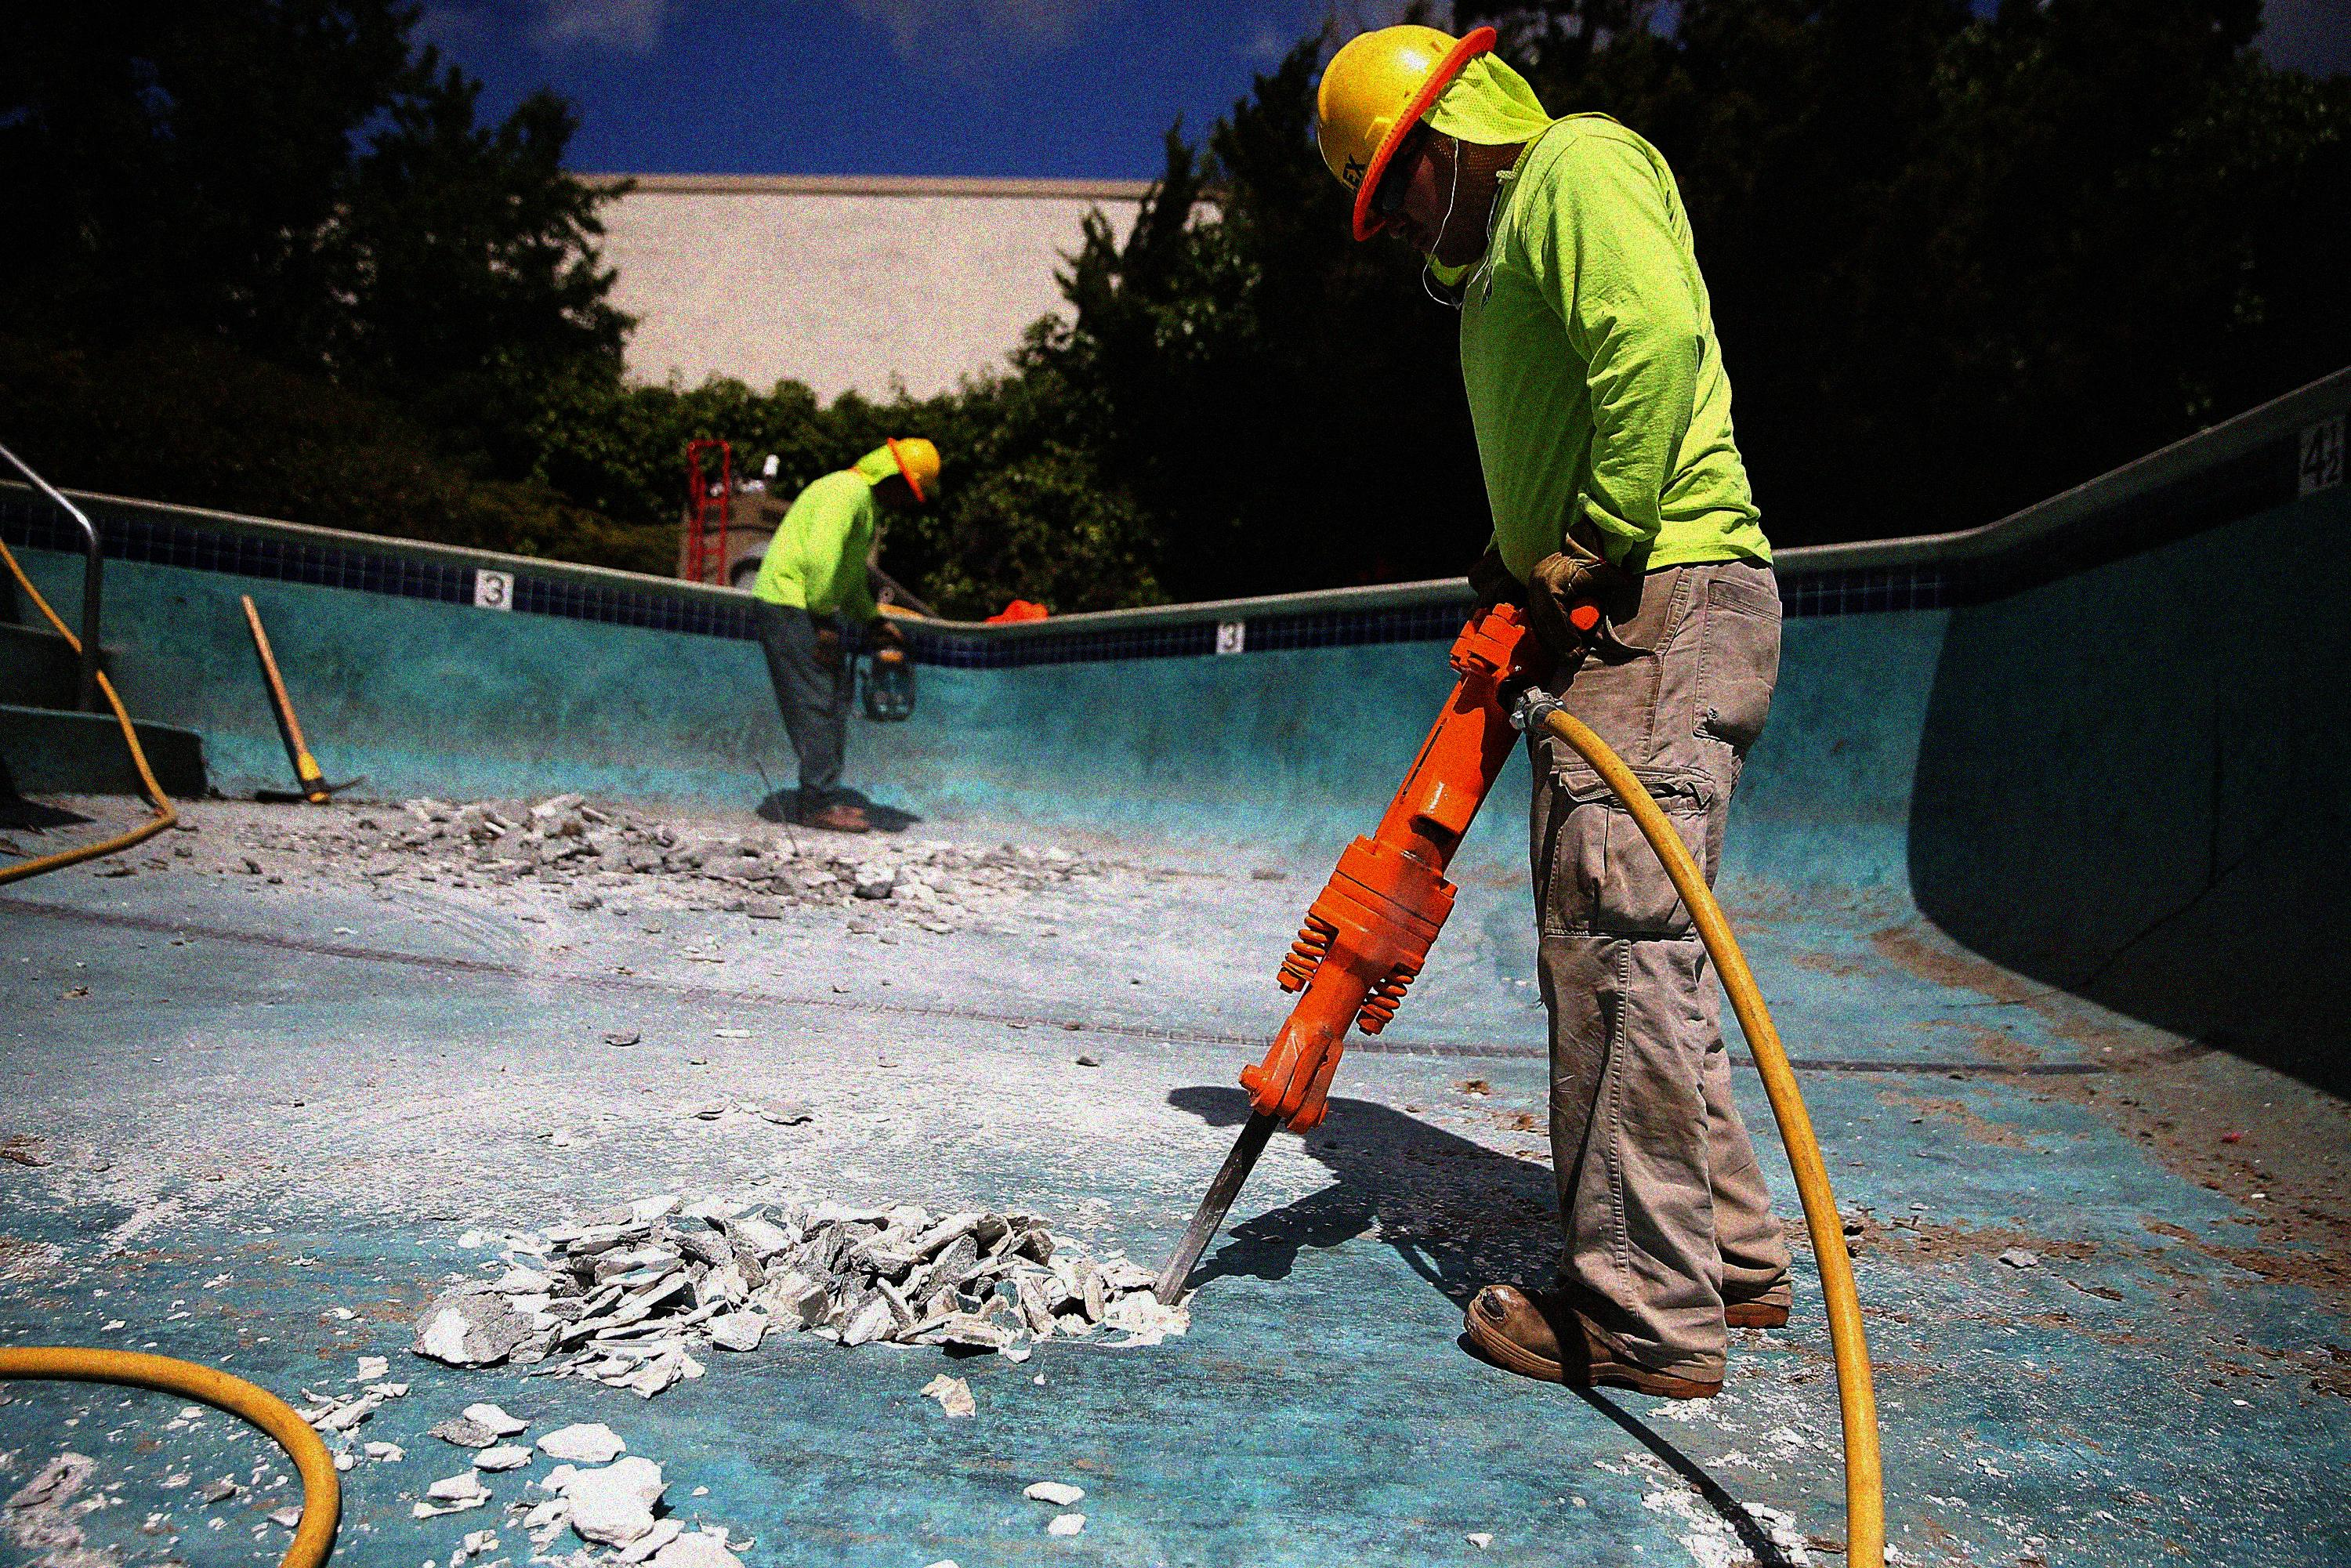helmet: (1314, 17, 1520, 255), (868, 430, 943, 516)
